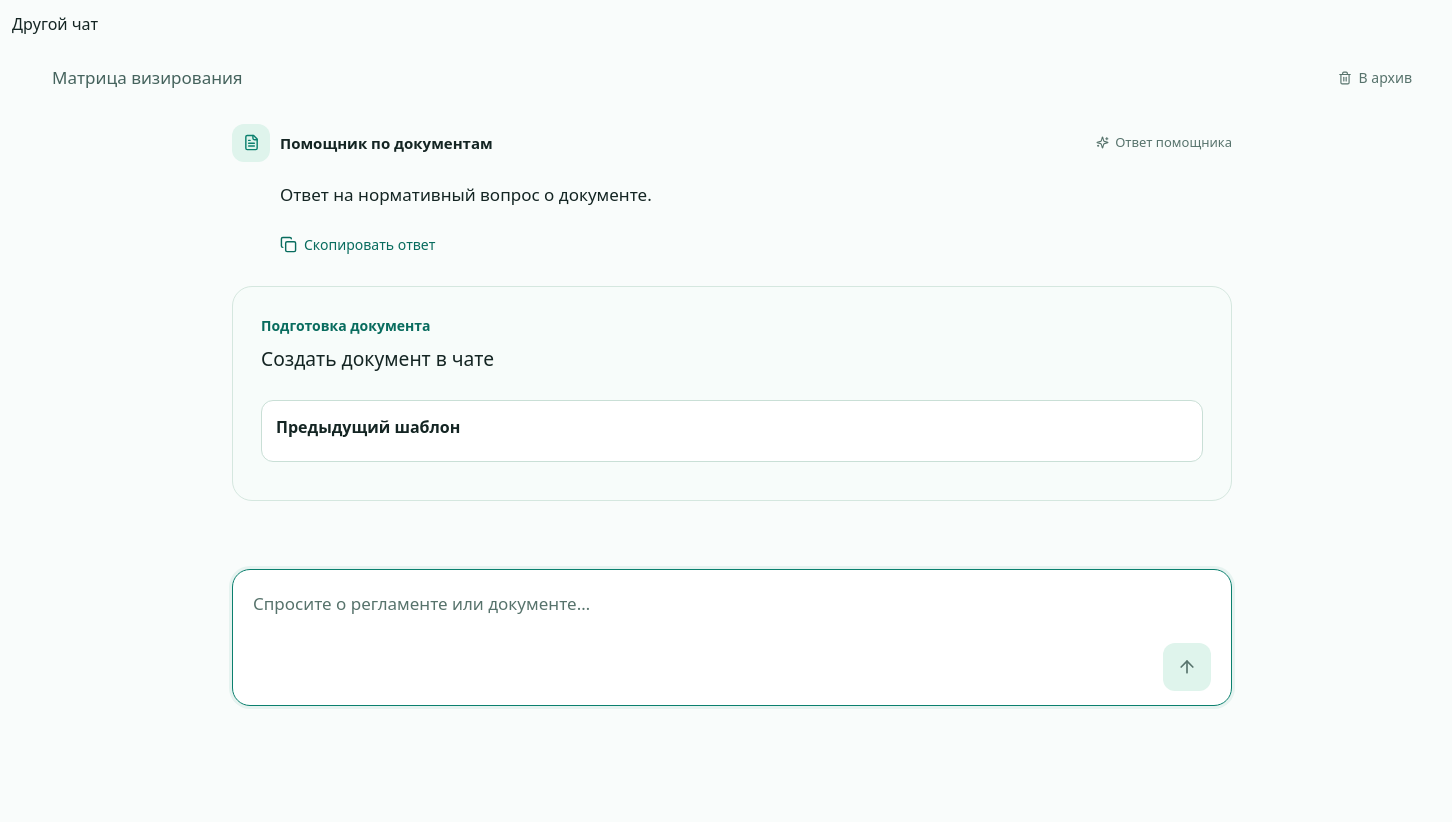
server document workflow visibility in ChatPage › removes the preceding workflow on a session change
Click the link "Другой чат".
click(55, 24)  # box [12,13,98,35]
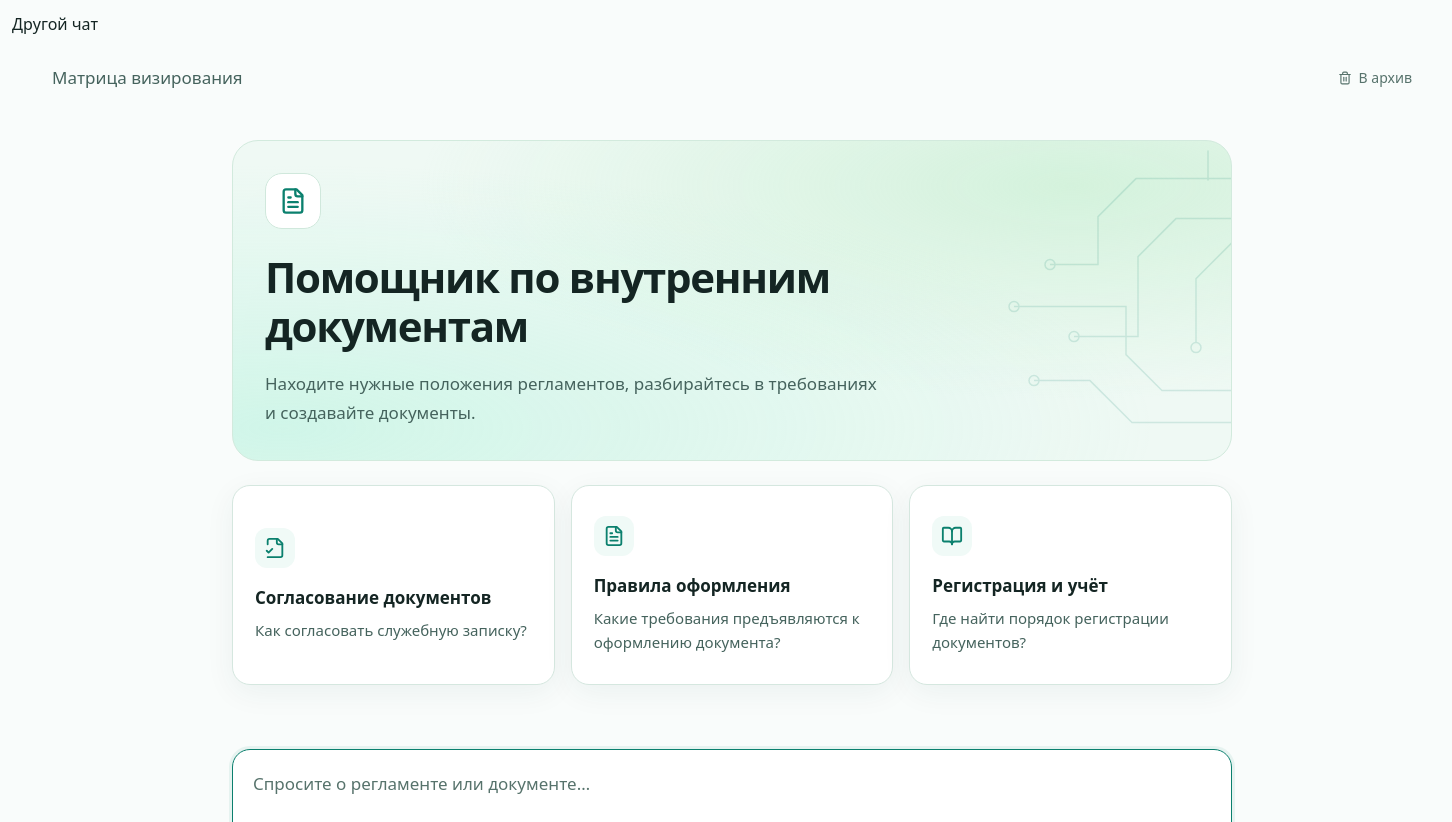
Check: the text box with placeholder "Спросите о регламенте или документе…" is enabled, box [253,770,1211,808]
Check: the text "Предыдущий шаблон" is gone
